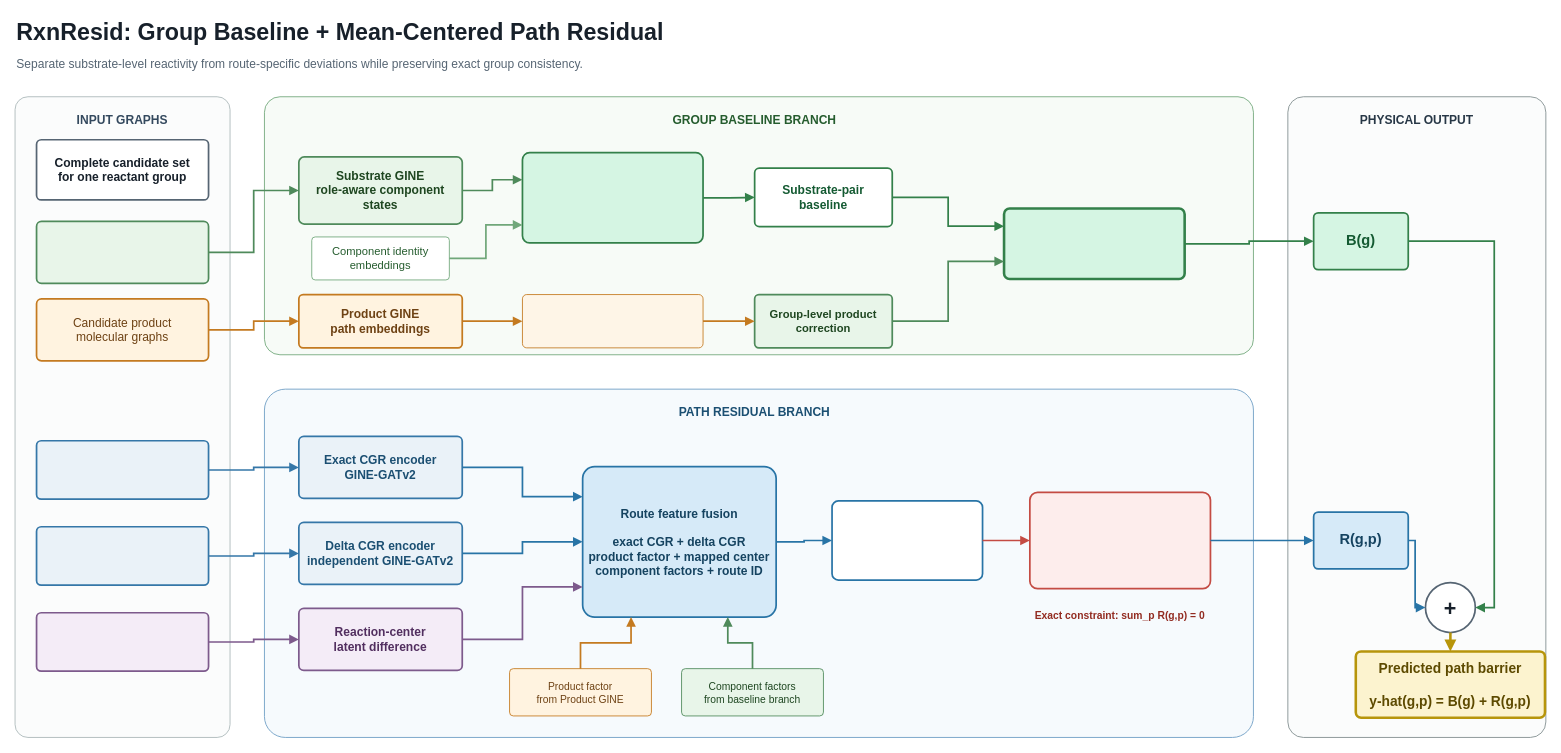
This 1561x753 diagram has some shape labels left out. Each missing label, with the box of its shape:
Deduplicated reactant component graphs: (35, 220, 209, 284)
Exact reaction-change graph (CGR): (35, 439, 209, 500)
Group baseline B(g): (1002, 207, 1186, 280)
Group mean centering R(g,p) = u(g,p) - mean_p u(g,p): (1029, 491, 1211, 589)
Group product statistics mean / min / max: (522, 294, 703, 348)
Group-relative delta change graph: (35, 525, 209, 586)
Mapped reaction center + route identifier: (35, 611, 209, 672)
Route head nonnegative potential u(g,p): (831, 500, 983, 580)
Trainable rank-48 interaction surface biases + factor products: (521, 151, 703, 243)
